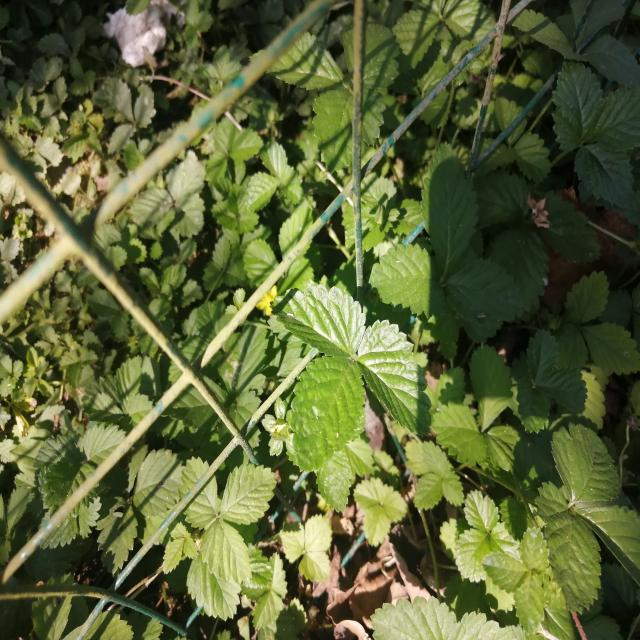Mock_strawberry: (272, 258, 450, 481), (479, 413, 635, 615), (168, 449, 297, 609)
